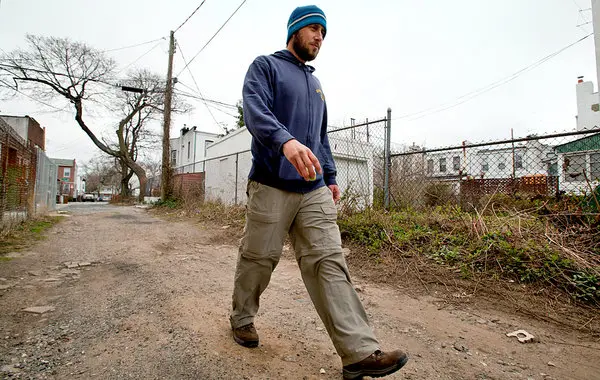person: (227, 1, 409, 380)
